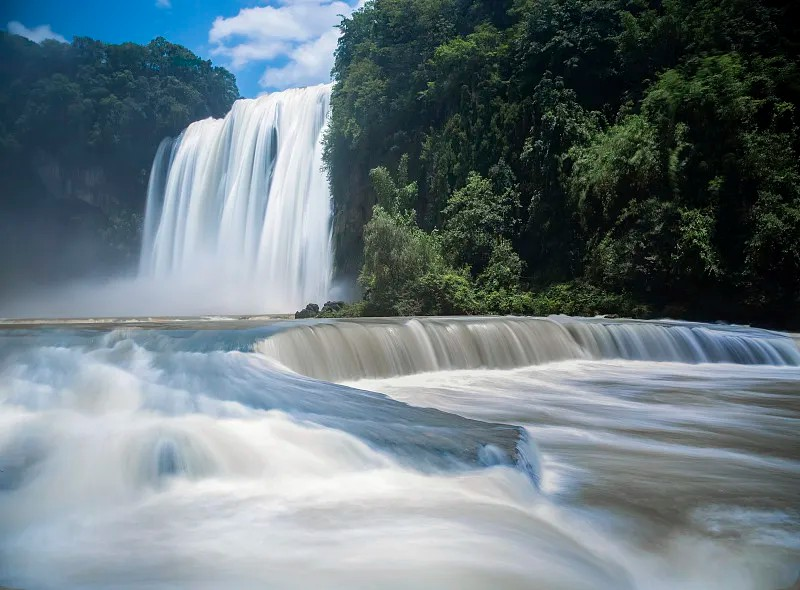Huangguoshu: (138, 82, 333, 317)
